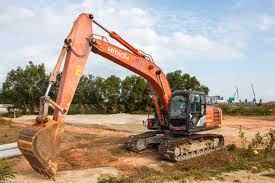excavator: (19, 12, 225, 180)
